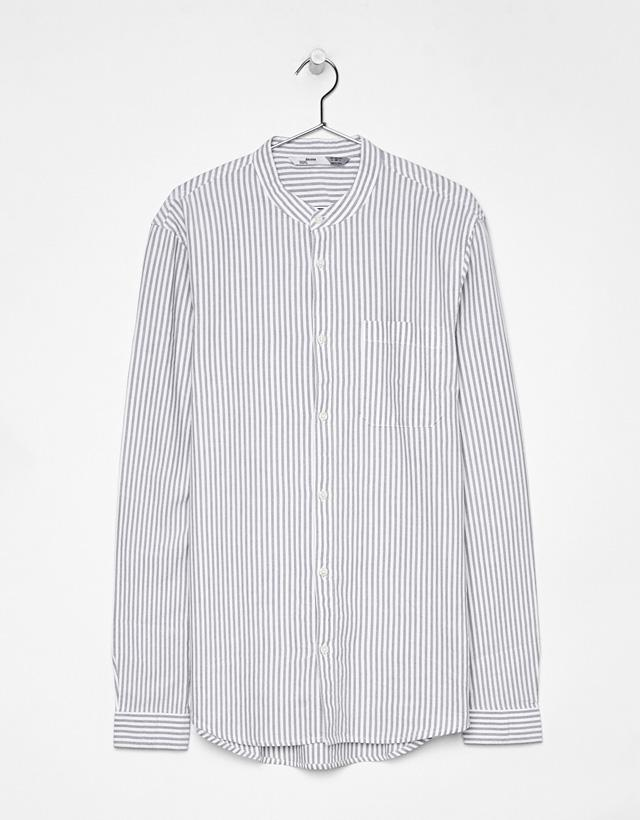teeshirt: (89, 126, 554, 771)
